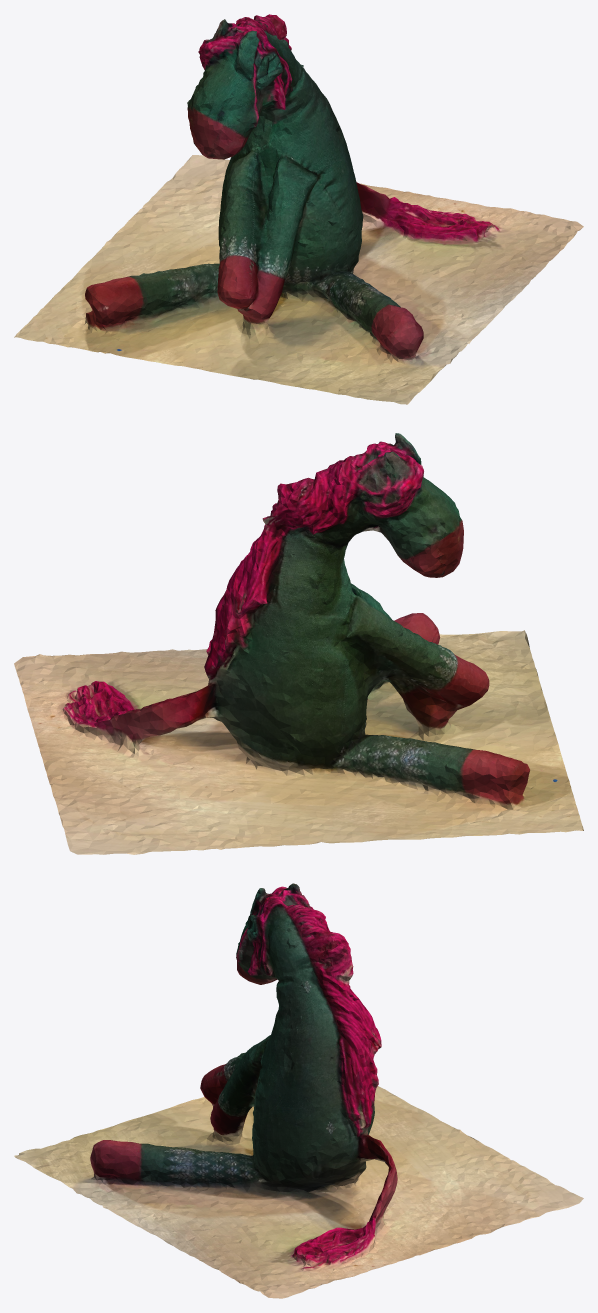
Rendered from cambodian-silk.glb.
The picture shows the model from 3 angles, top to bottom: view 1: azimuth 30°, elevation 25°; view 2: azimuth 150°, elevation 25°; view 3: azimuth 270°, elevation 25°; orthographic projection. The views are drawn at different scales.
Bounding box in the file's own units: 0.5109 × 0.2578 × 0.5074.
Materials: 1 (1 with a texture image).
